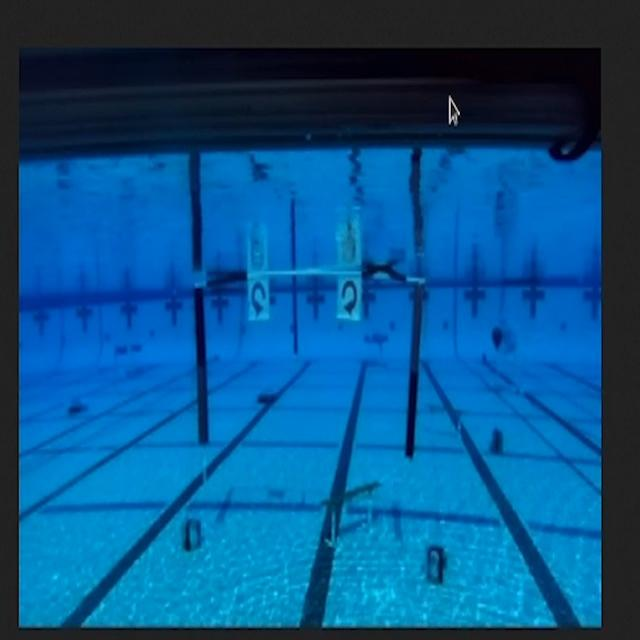Gate: (189, 266, 422, 464)
